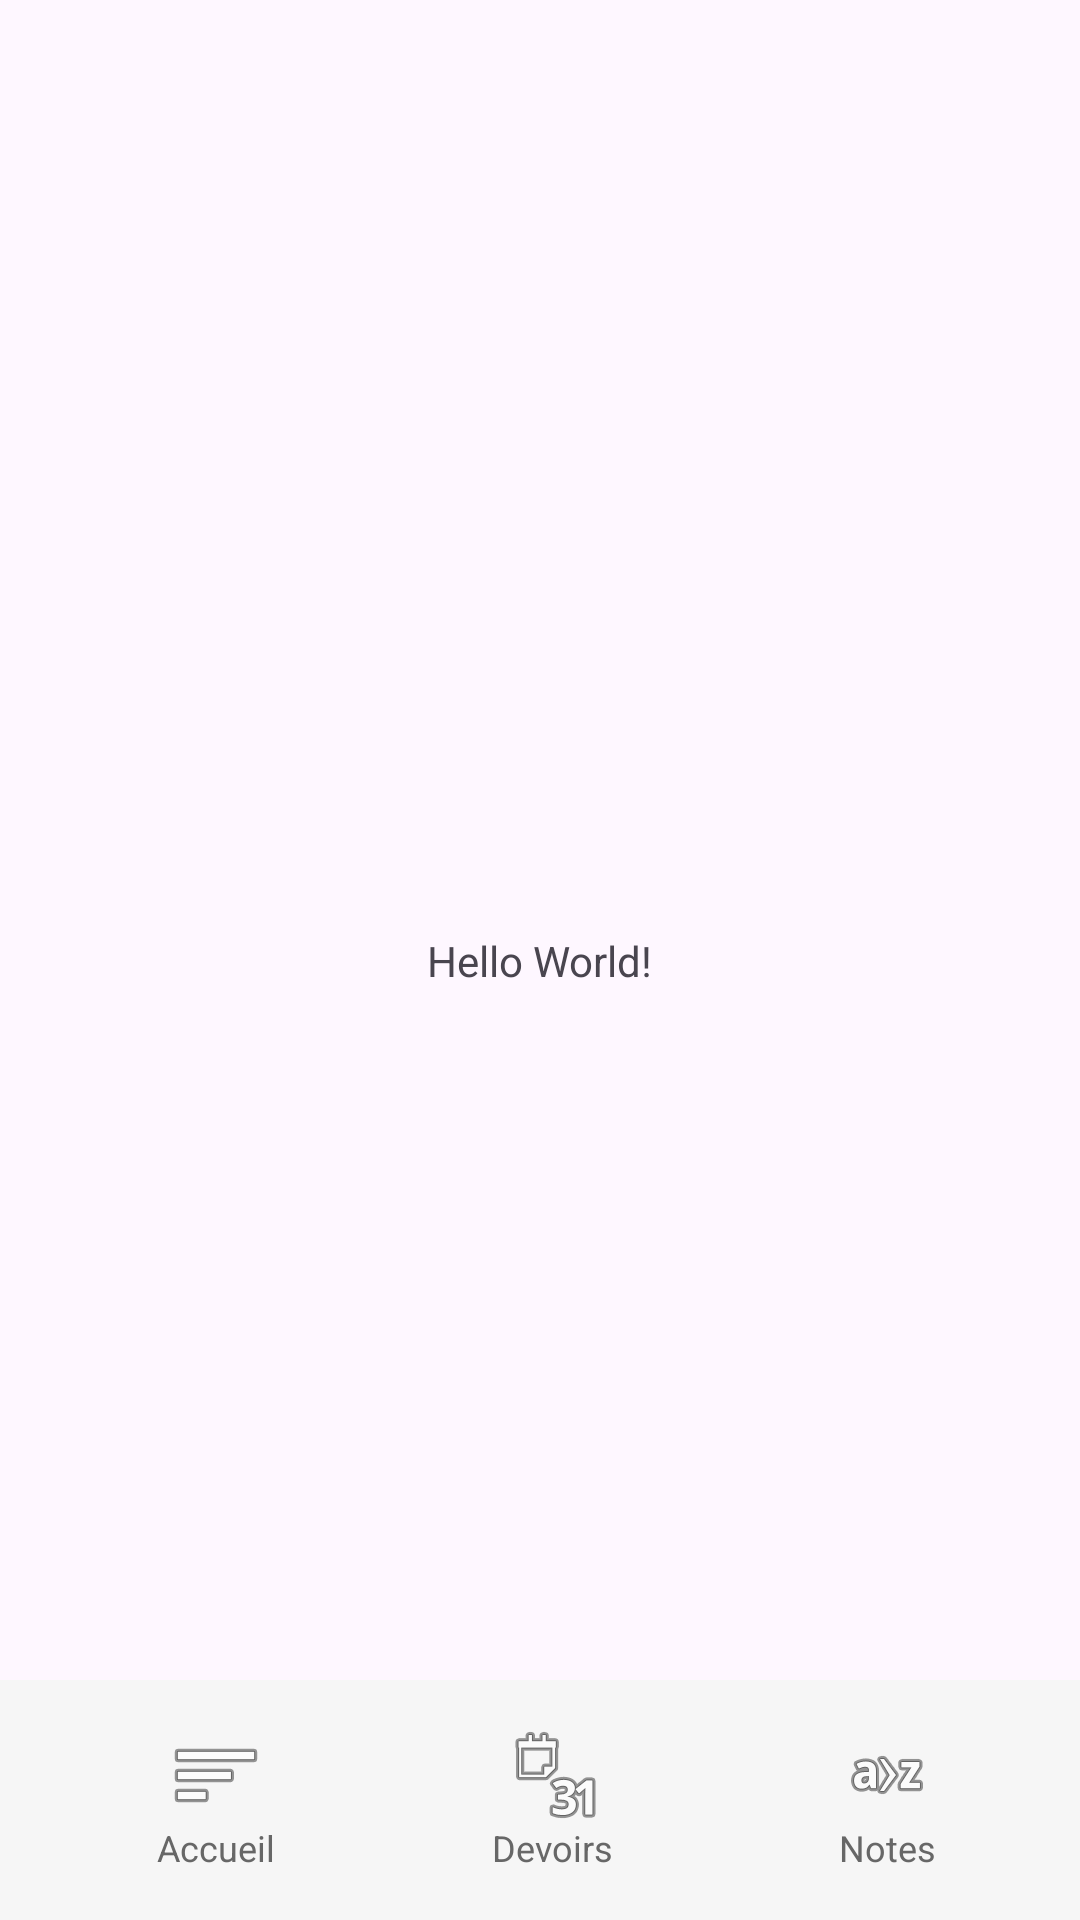

Point at icon controls on the screen. Image size 1080w x 1920h, points as (x,y).
month: (555,1775)
sort alphabetically: (887,1775)
sort by size: (216,1775)
